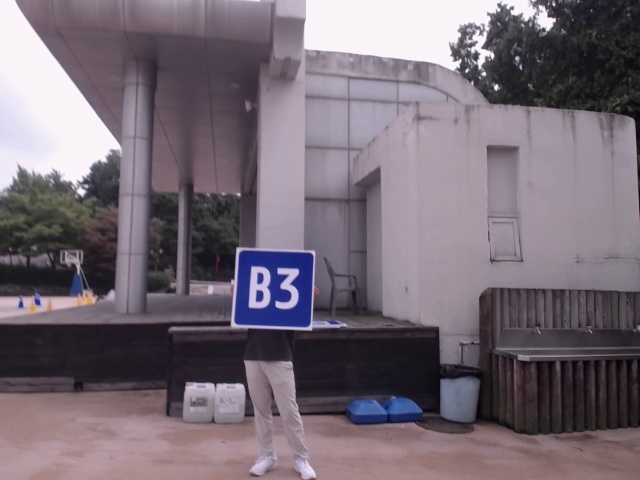delivery_b3: (232, 247, 314, 332)
